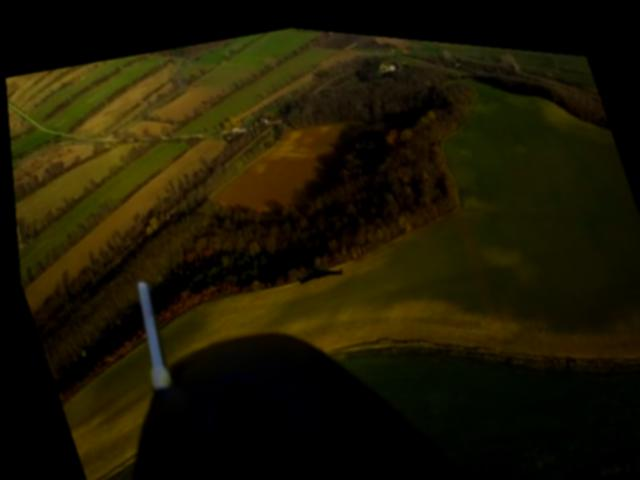iha: (293, 254, 339, 281)
